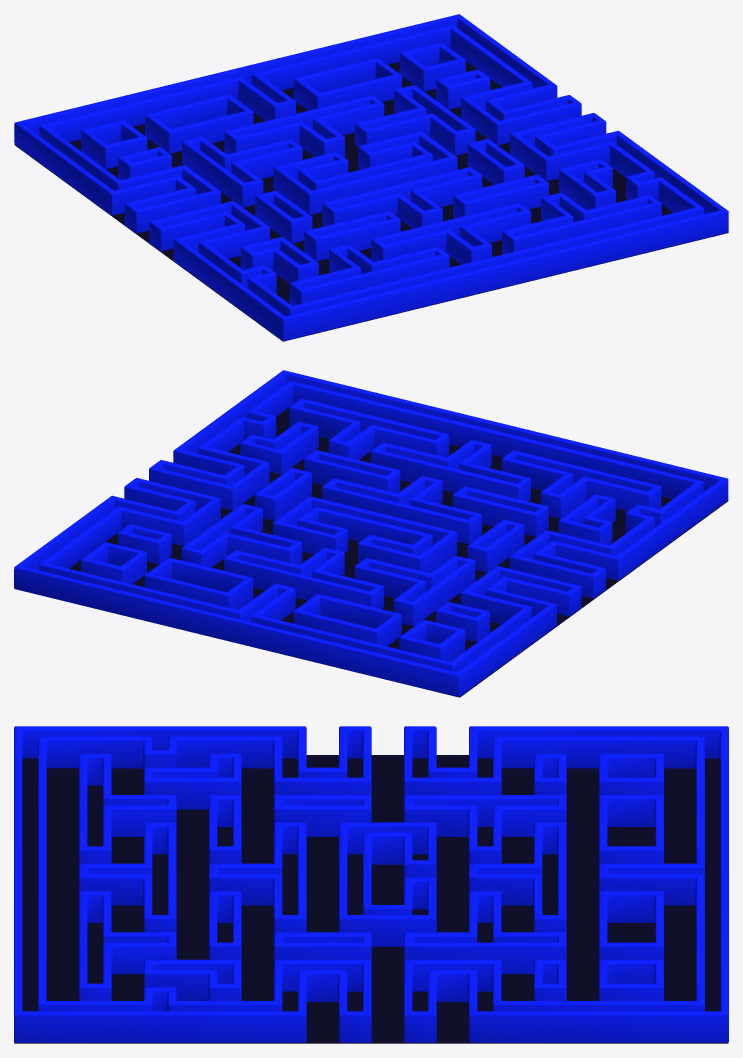
File: pacmanMap2.gltf
3 views of the same model, one above another, from view 1: azimuth 30°, elevation 25°; view 2: azimuth 150°, elevation 25°; view 3: azimuth 270°, elevation 25° (orthographic). The views are drawn at different scales.
Visible parts, largest first — view 1: allmaptest, floor; view 2: allmaptest, floor; view 3: allmaptest, floor.
Boxes of the visible parts, x1,y1,x2,y2 form: allmaptest: (14,14,728,340); floor: (14,60,728,341); allmaptest: (14,370,728,697); floor: (14,408,728,697); allmaptest: (14,726,728,1042); floor: (14,755,728,1043).
Size of what is drawn, in the model's own units: 42.03 by 2 by 44.
